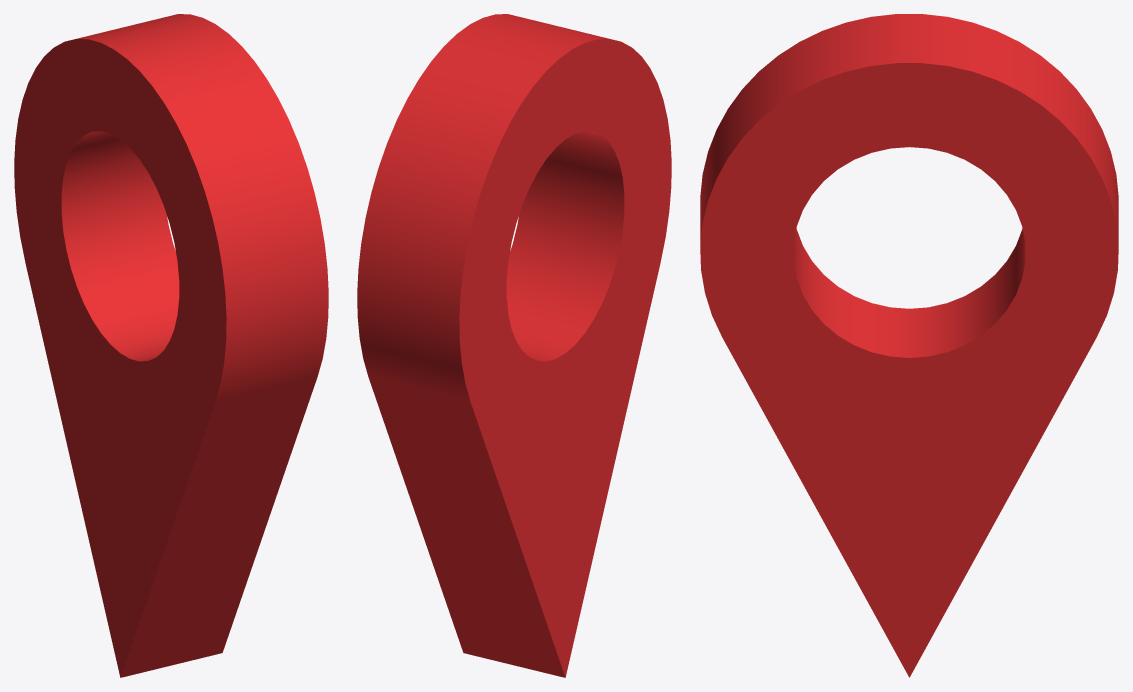
File: wp-red.dae
The picture shows the model from 3 angles, left to right: view 1: azimuth 30°, elevation 25°; view 2: azimuth 150°, elevation 25°; view 3: azimuth 270°, elevation 25°; orthographic projection.
Parts seen in each view (by area): view 1: location marker; view 2: location marker; view 3: location marker.
Part boxes in pixels (<box>): location marker: <box>14,14,328,677</box>; location marker: <box>357,14,671,677</box>; location marker: <box>700,14,1118,677</box>.
Size of the model in its own units: 5 by 17.99 by 29.16.
